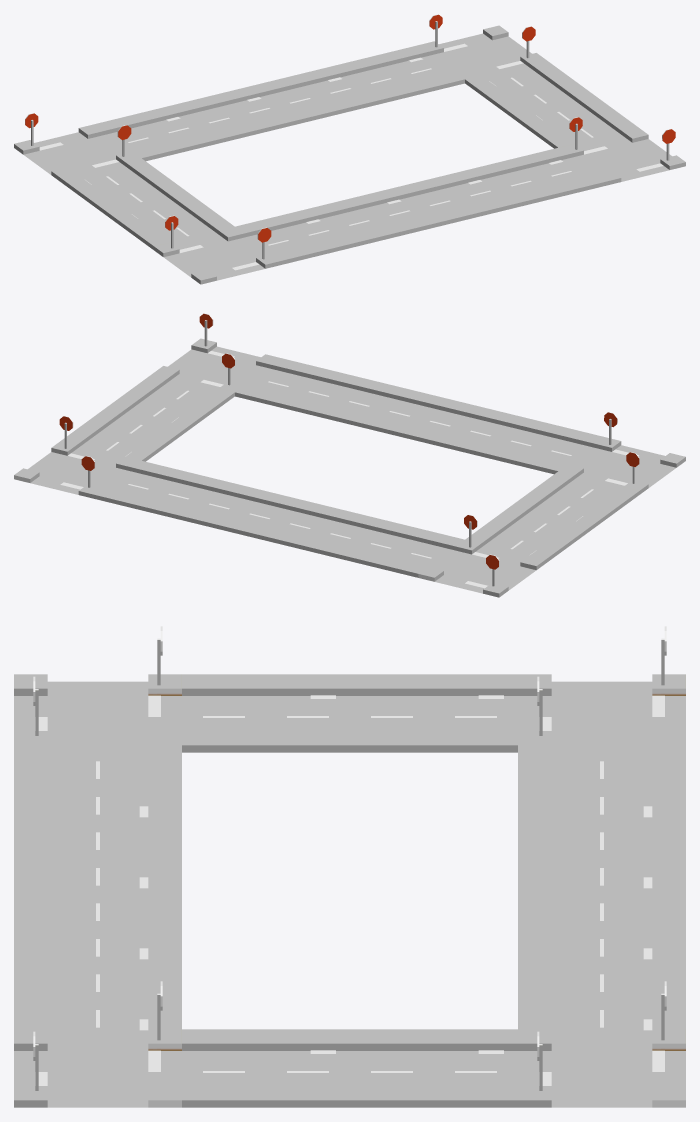
Rendered from Mesh_Road.fbx.
The picture shows the model from 3 angles, top to bottom: view 1: azimuth 30°, elevation 25°; view 2: azimuth 150°, elevation 25°; view 3: azimuth 270°, elevation 25°; orthographic projection. The views are drawn at different scales.
Parts seen in each view (by area): view 1: polySurface163; view 2: polySurface163; view 3: polySurface163.
Boxes of the visible parts, bbox=[...] form: polySurface163: bbox=[14, 14, 685, 284]; polySurface163: bbox=[14, 313, 685, 597]; polySurface163: bbox=[14, 626, 685, 1107].
Size of the model in its own units: 9000 by 626 by 6000.
